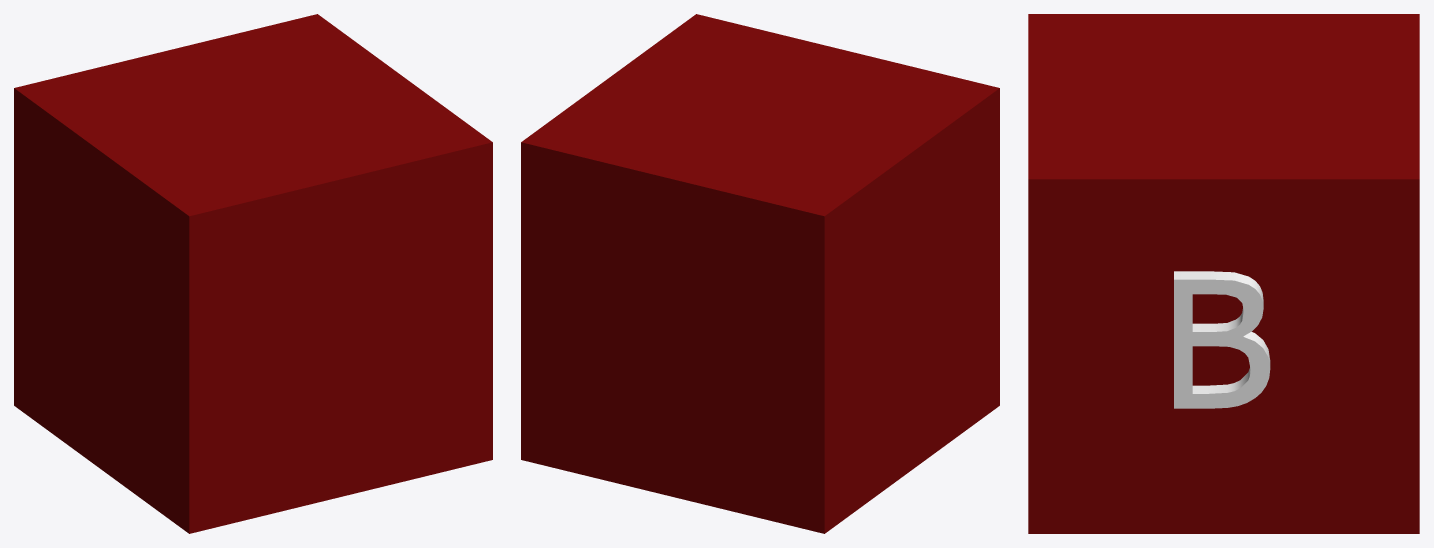
3 views of the same model, side by side, from view 1: azimuth 30°, elevation 25°; view 2: azimuth 150°, elevation 25°; view 3: azimuth 270°, elevation 25° (orthographic). The views are drawn at different scales.
Visible parts, largest first — view 1: SketchUp; view 2: SketchUp; view 3: SketchUp, B_1 (×3).
Part boxes in pixels (x1=…): SketchUp: x1=14, y1=14, x2=492, y2=533; SketchUp: x1=521, y1=14, x2=999, y2=533; SketchUp: x1=1028, y1=14, x2=1419, y2=533; B_1 (×3): x1=1174, y1=271, x2=1270, y2=408.
Bounding box in the file's own units: 21 × 20 × 20.
